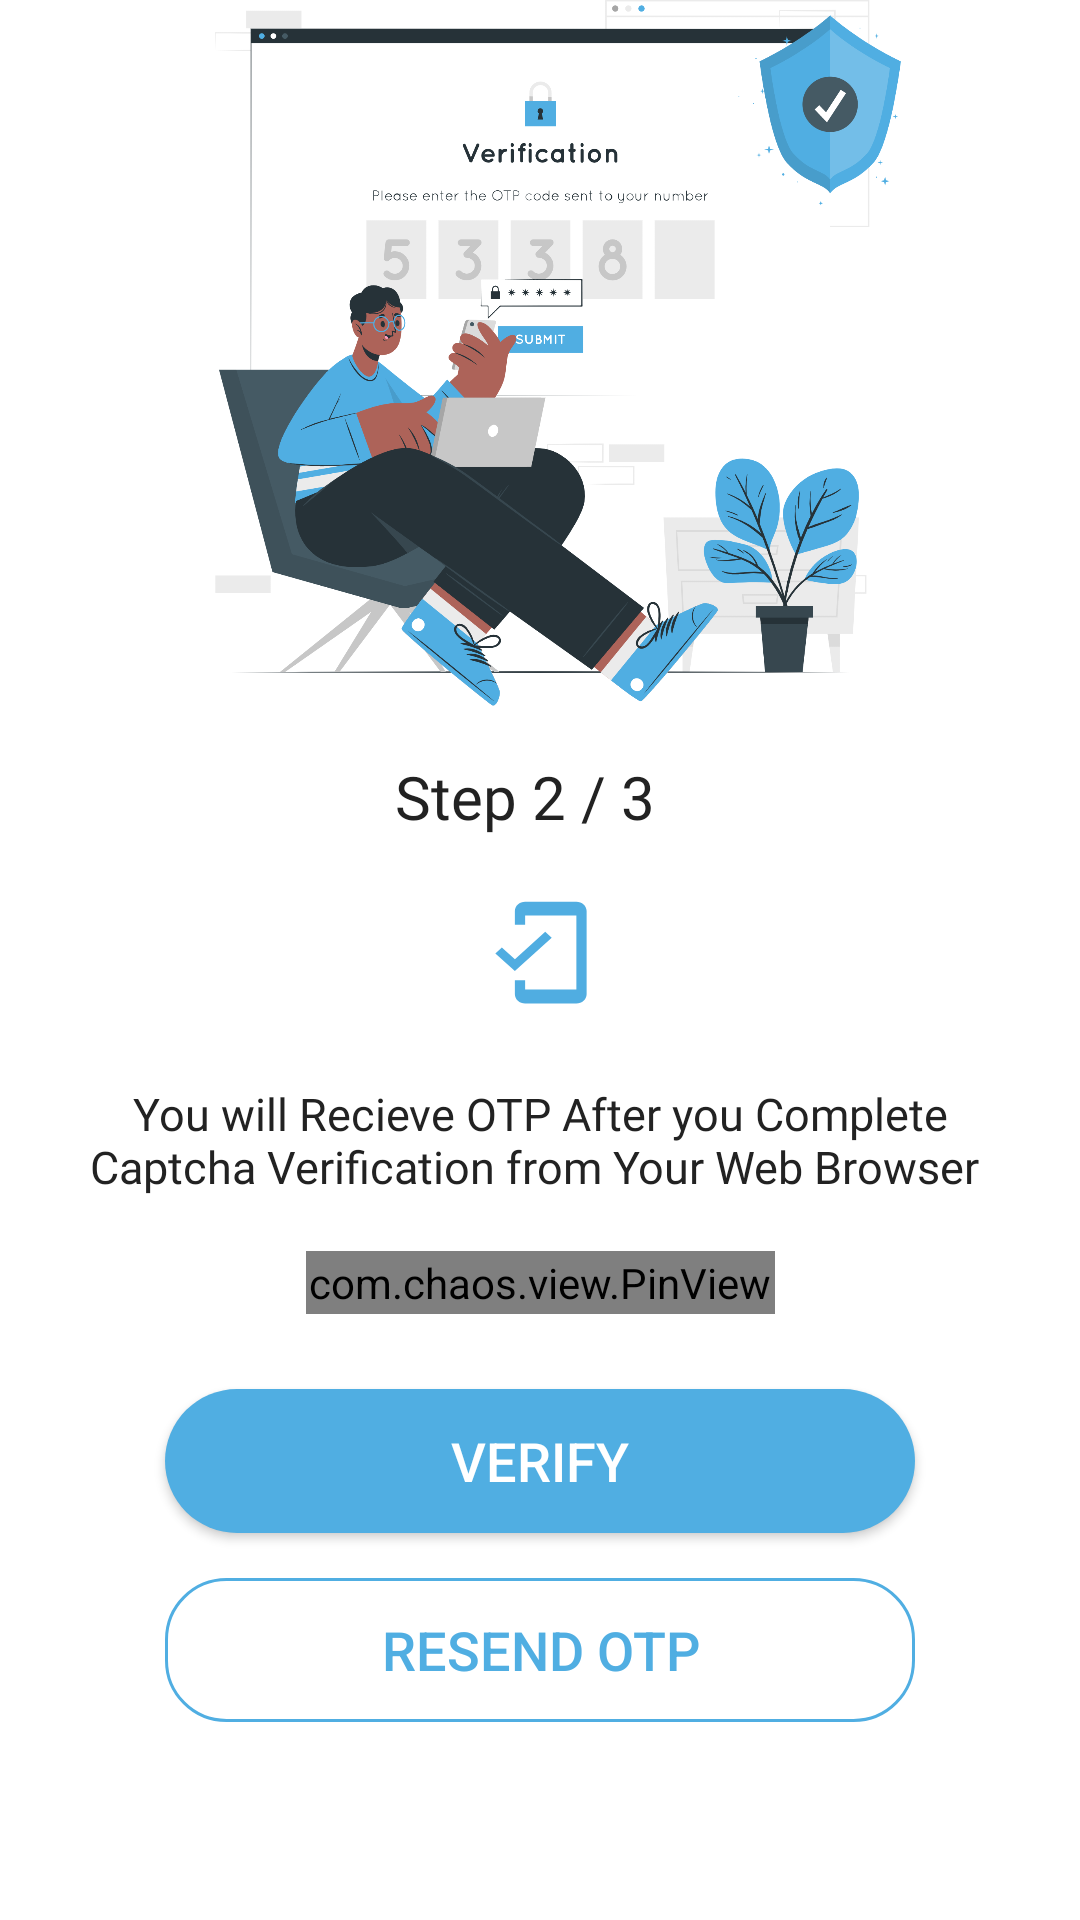

Icons on this 1080 × 1920 Android screen, each with its box as (x1=x1, y1=y1, x2=x2, y2=y2):
mobilecheck: (x1=495, y1=901, x2=587, y2=1004)
